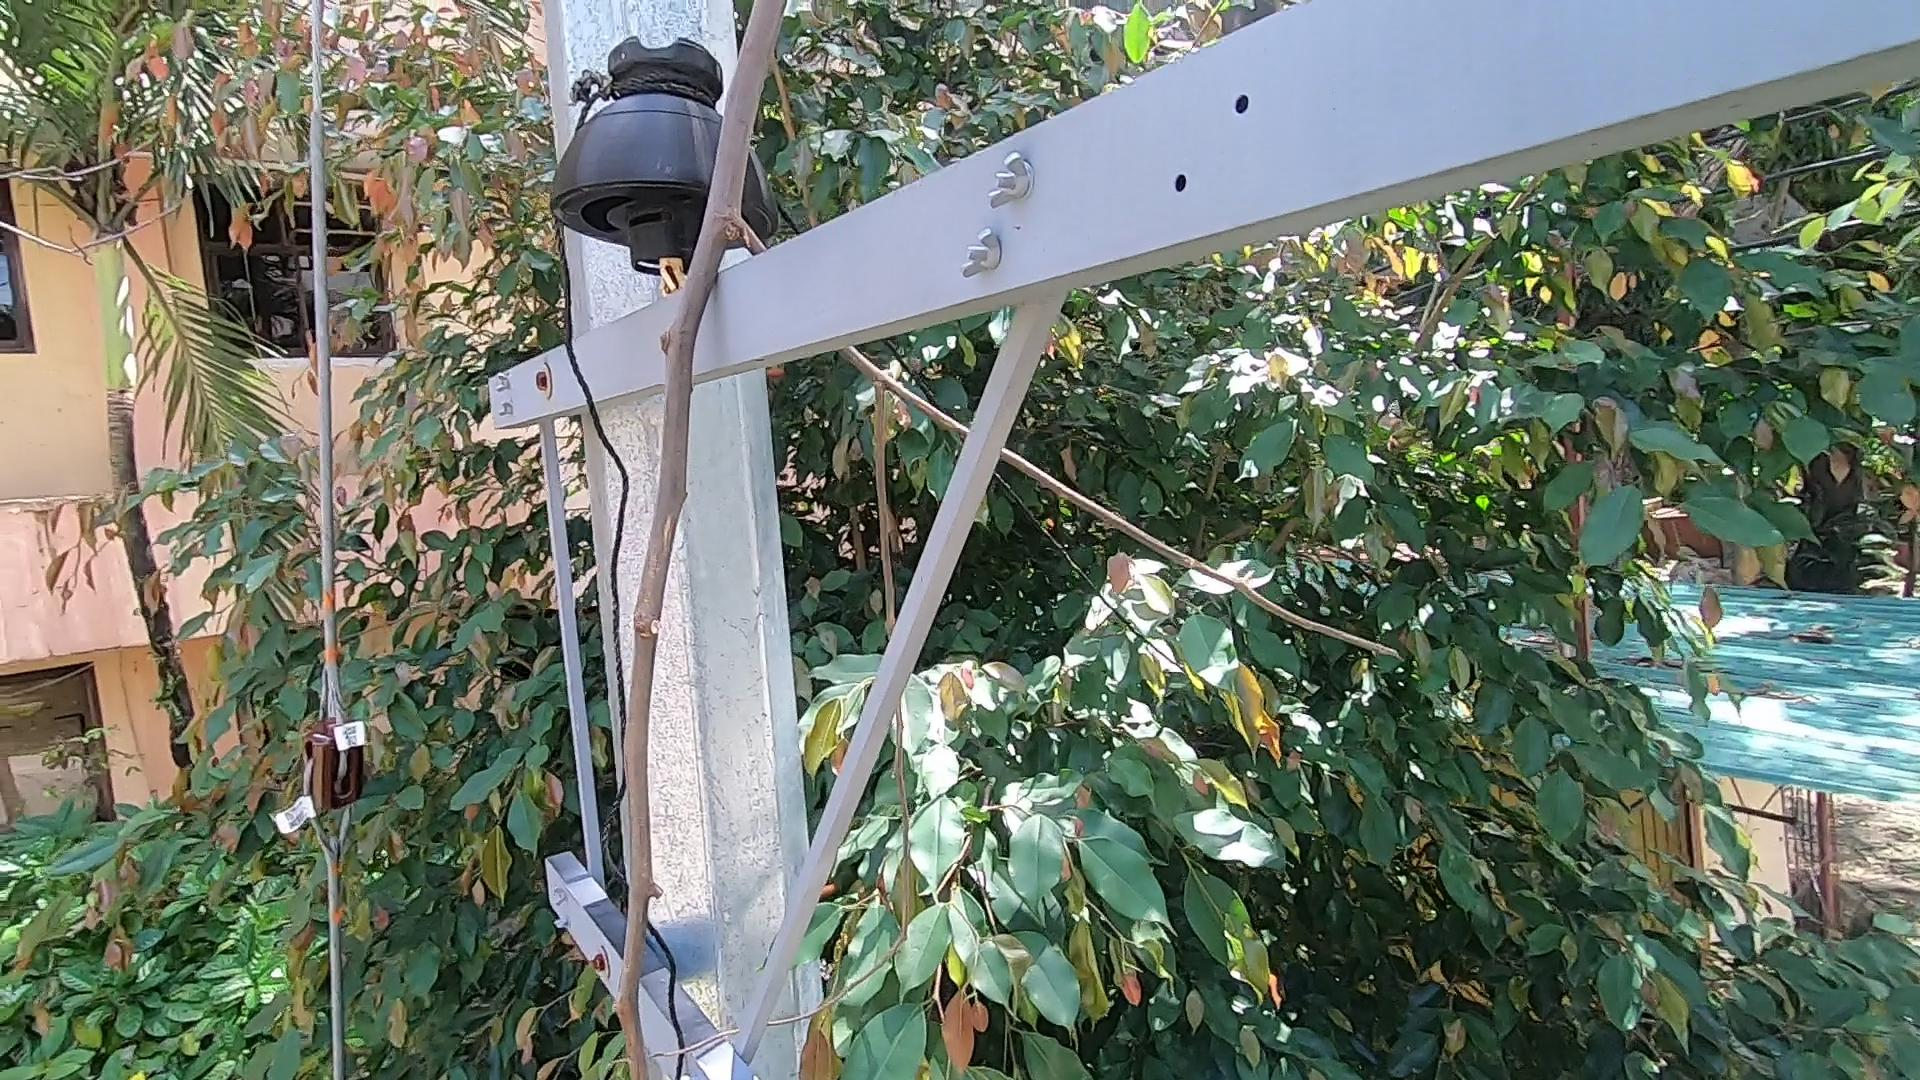branch with leaves: (819, 920, 1093, 1080)
tree branch: (611, 3, 802, 1080)
